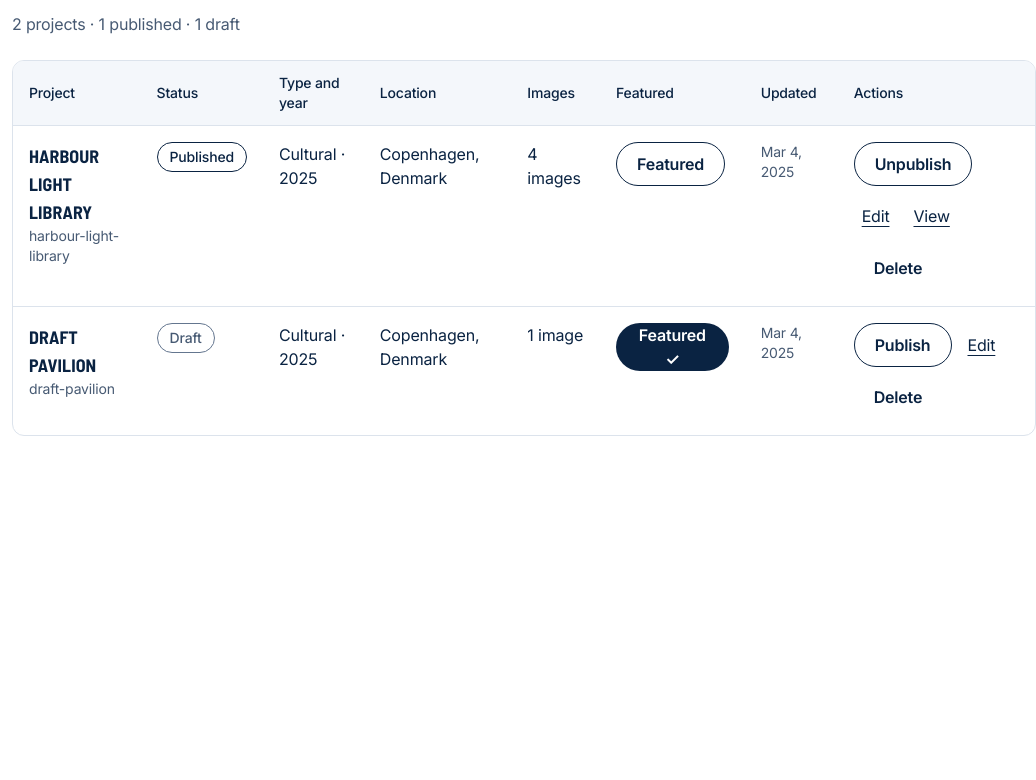
it: feedback › shows a blocked publish as an alert listing what is missing
Click the button with aria-label "Publish Draft Pavilion": (903, 345) [854,323,952,367]
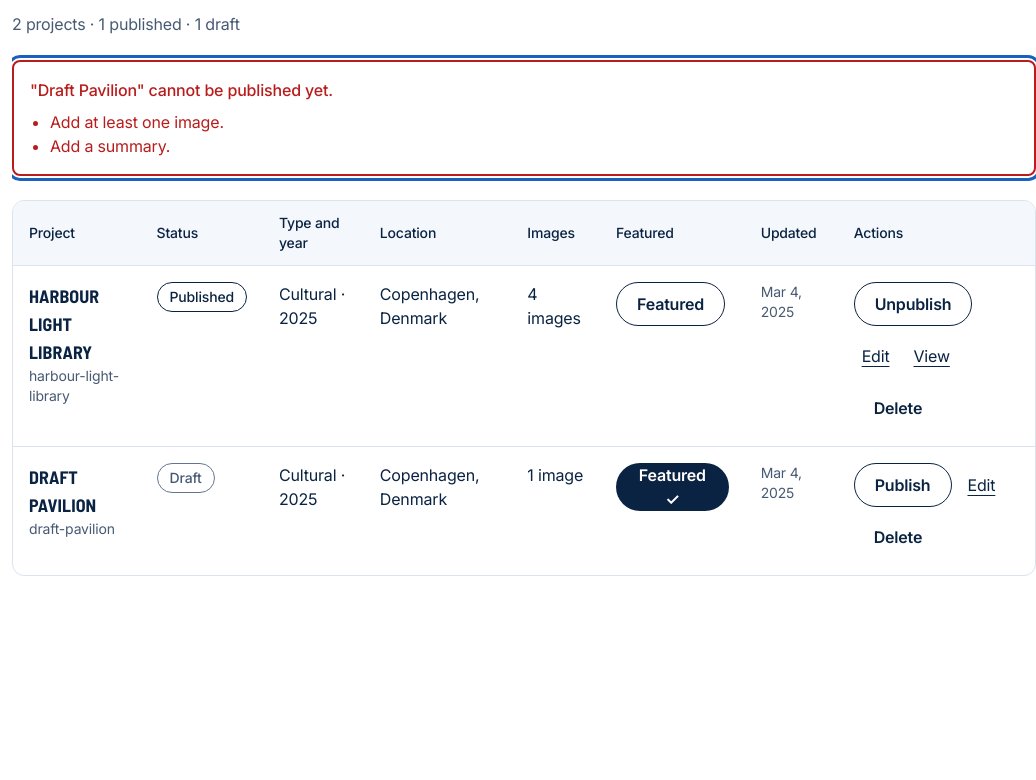
Expected: the message shows "\"Draft Pavilion\" cannot be published yet.", [30,80,333,100]
Expected: the list items read "Add at least one image.", "Add a summary.", in this order, [50,112,224,132]; [50,136,170,156]
